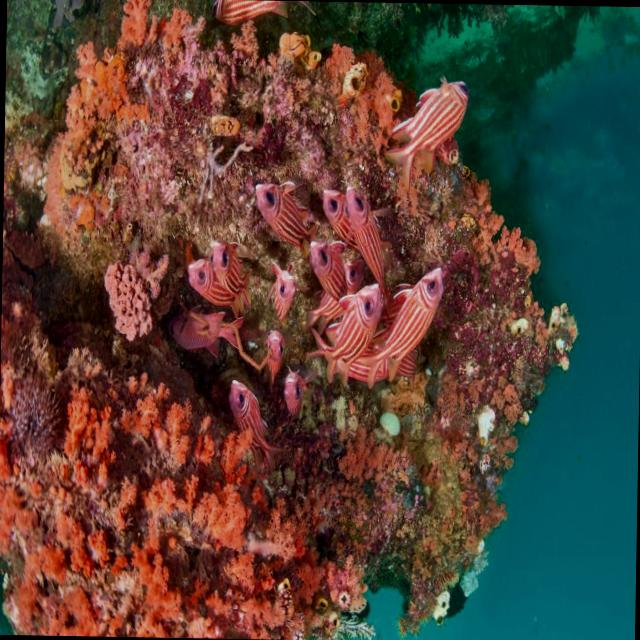Asker Baligi: (373, 56, 476, 196), (358, 252, 449, 404), (212, 370, 296, 487), (161, 300, 260, 364), (247, 160, 309, 255), (254, 253, 313, 344)
